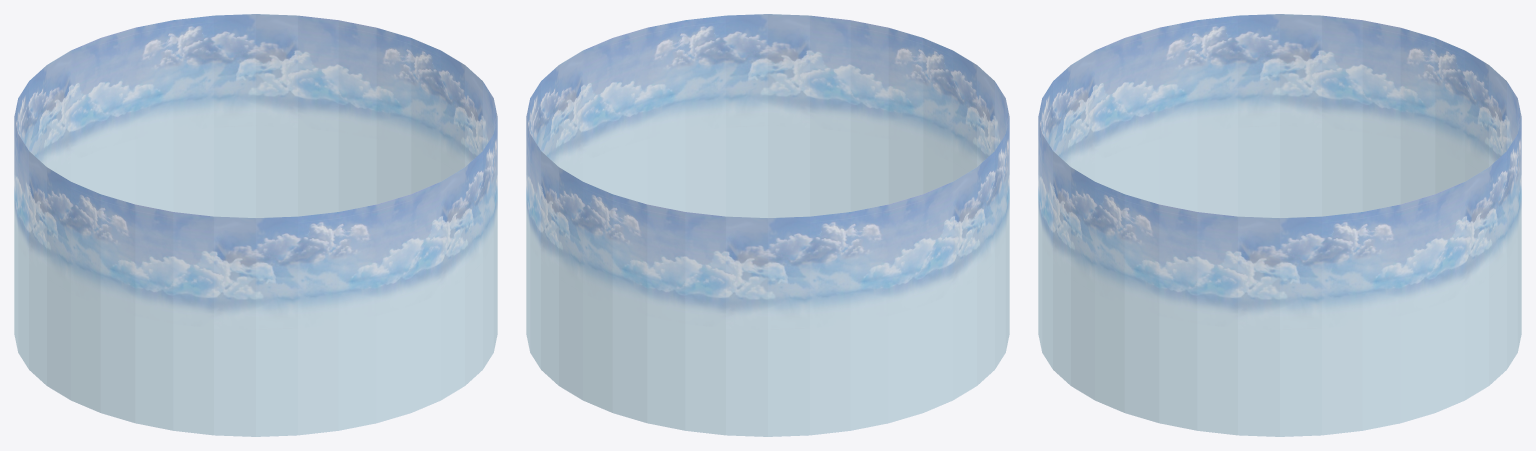
File: skybox.glb
The picture shows the model from 3 angles, left to right: view 1: azimuth 30°, elevation 25°; view 2: azimuth 150°, elevation 25°; view 3: azimuth 270°, elevation 25°; orthographic projection.
Parts seen in each view (by area): view 1: skybox; view 2: skybox; view 3: skybox.
Part boxes in pixels (box(x1,y1,x2,y2)): skybox: box(14, 14, 497, 436); skybox: box(526, 14, 1009, 436); skybox: box(1038, 14, 1521, 436).
Size of the model in its own units: 6 by 3 by 6.
Materials: 1 (1 with a texture image).
